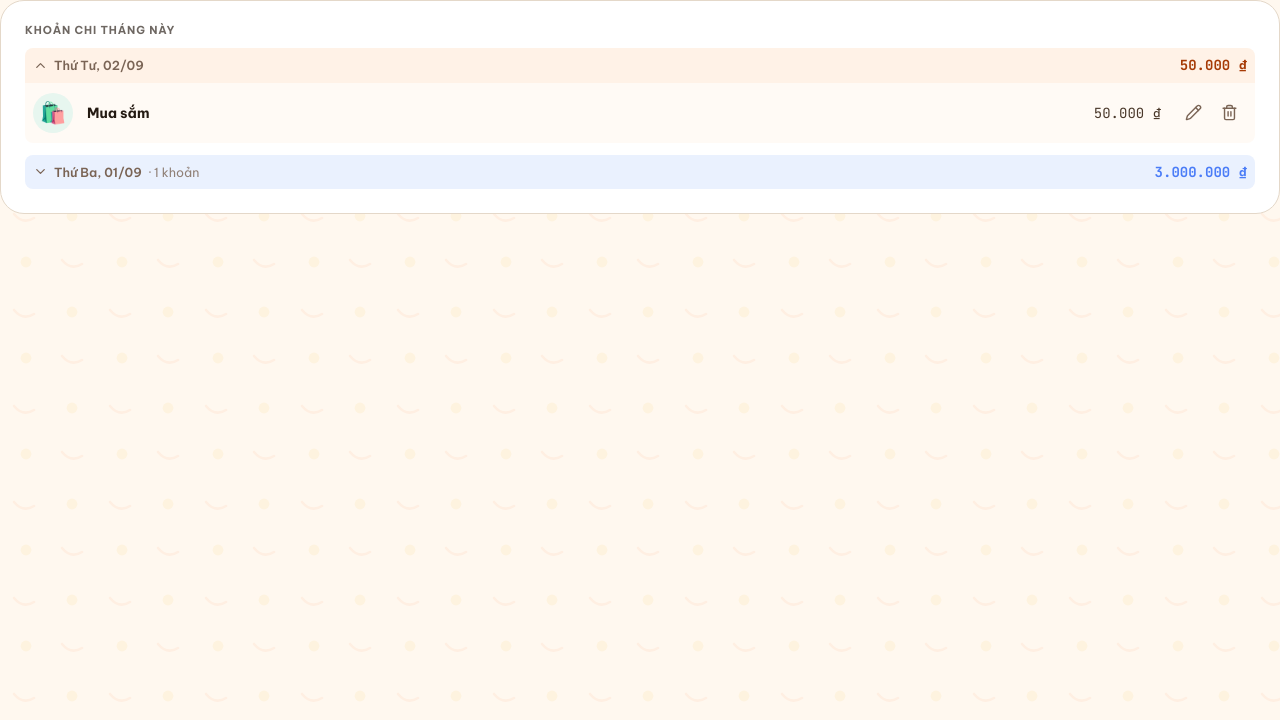
Test: ExpenseListCard › expands and collapses a day when its header is clicked
The width and height of the screenshot is (1280, 720).
Click the button with test id "expense-day-header". click: (98, 172)
box: top-left (25, 155), bottom-right (1255, 189)
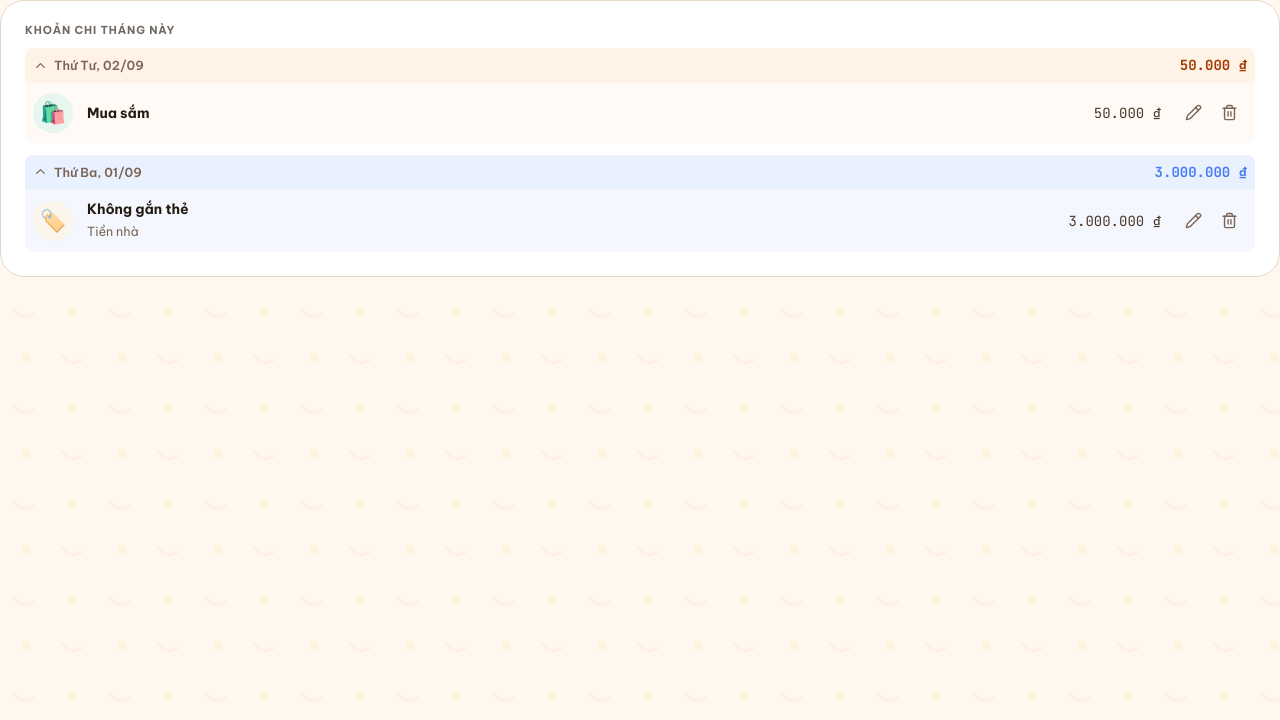
Expected: the button with test id "expense-day-header" is expanded
Click the button with test id "expense-day-header". click: (98, 172)
box: top-left (25, 155), bottom-right (1255, 189)
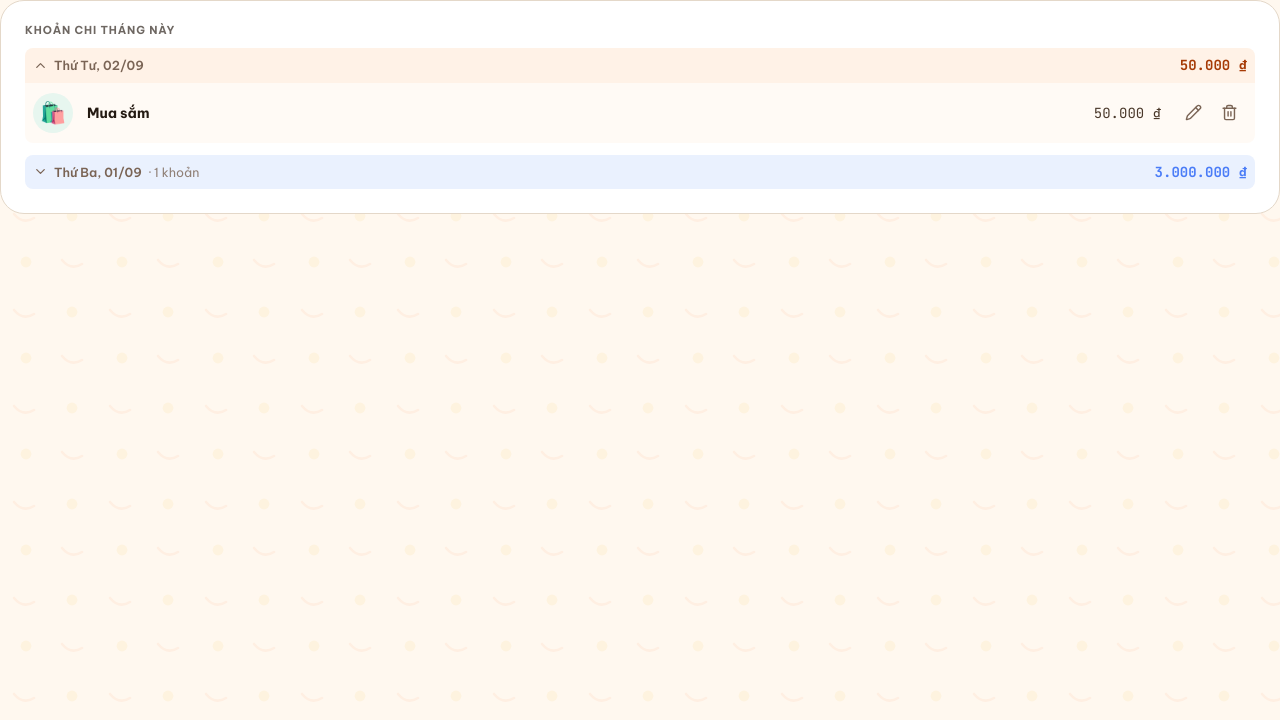
Click the button with test id "expense-day-header". click: (99, 65)
box: top-left (25, 48), bottom-right (1255, 83)
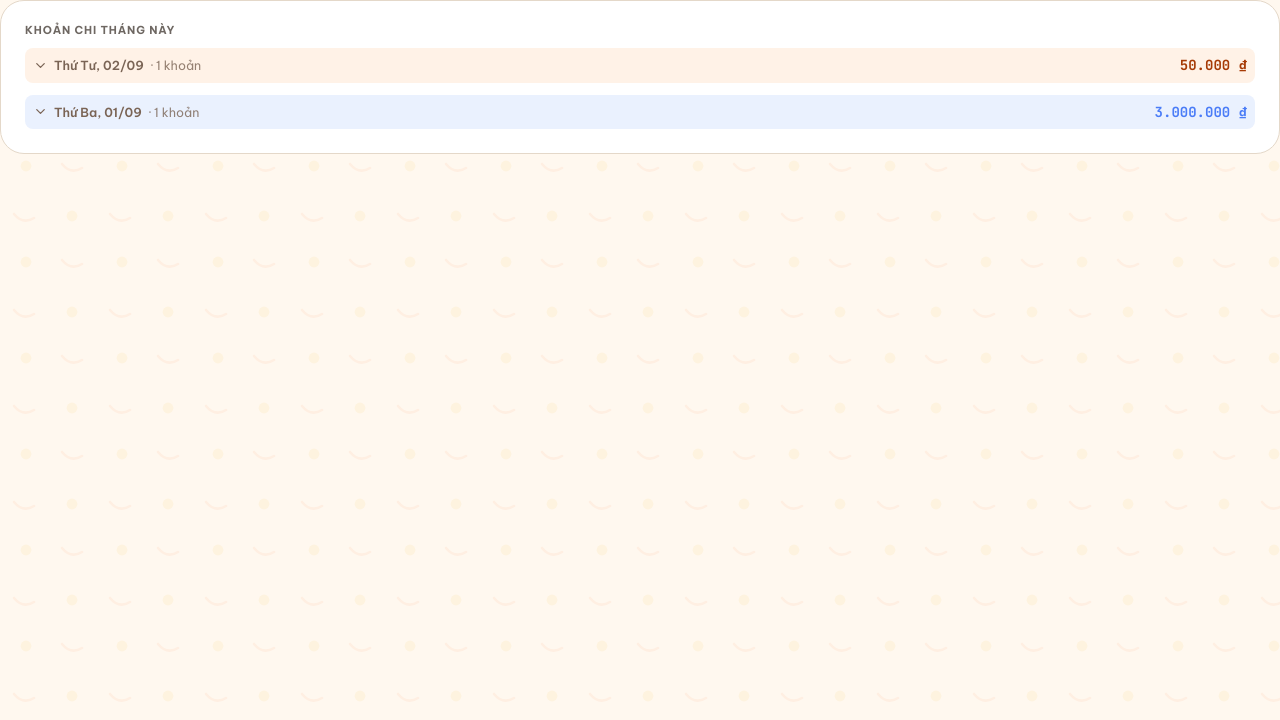
Expected: the button with test id "expense-day-header" is collapsed, top-left (25, 48), bottom-right (1255, 83)
